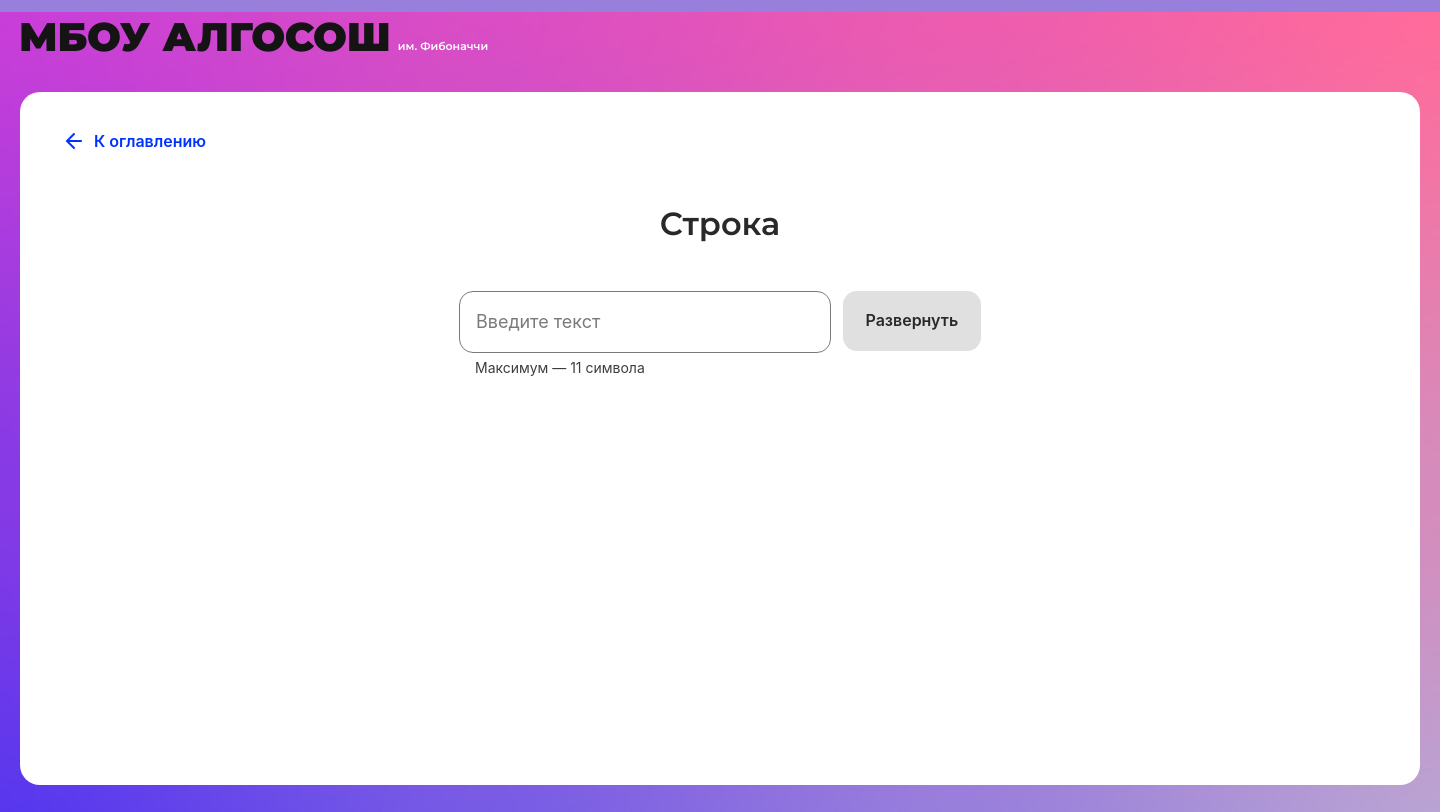
Страница "Строка" › кнопка "Развернуть" недоступна, если в инпуте пусто
Expected: the button "Развернуть" is disabled, [843,291,981,351]
In the field with placeholder "Введите текст": (645, 322) [459,291,831,353], type "word"
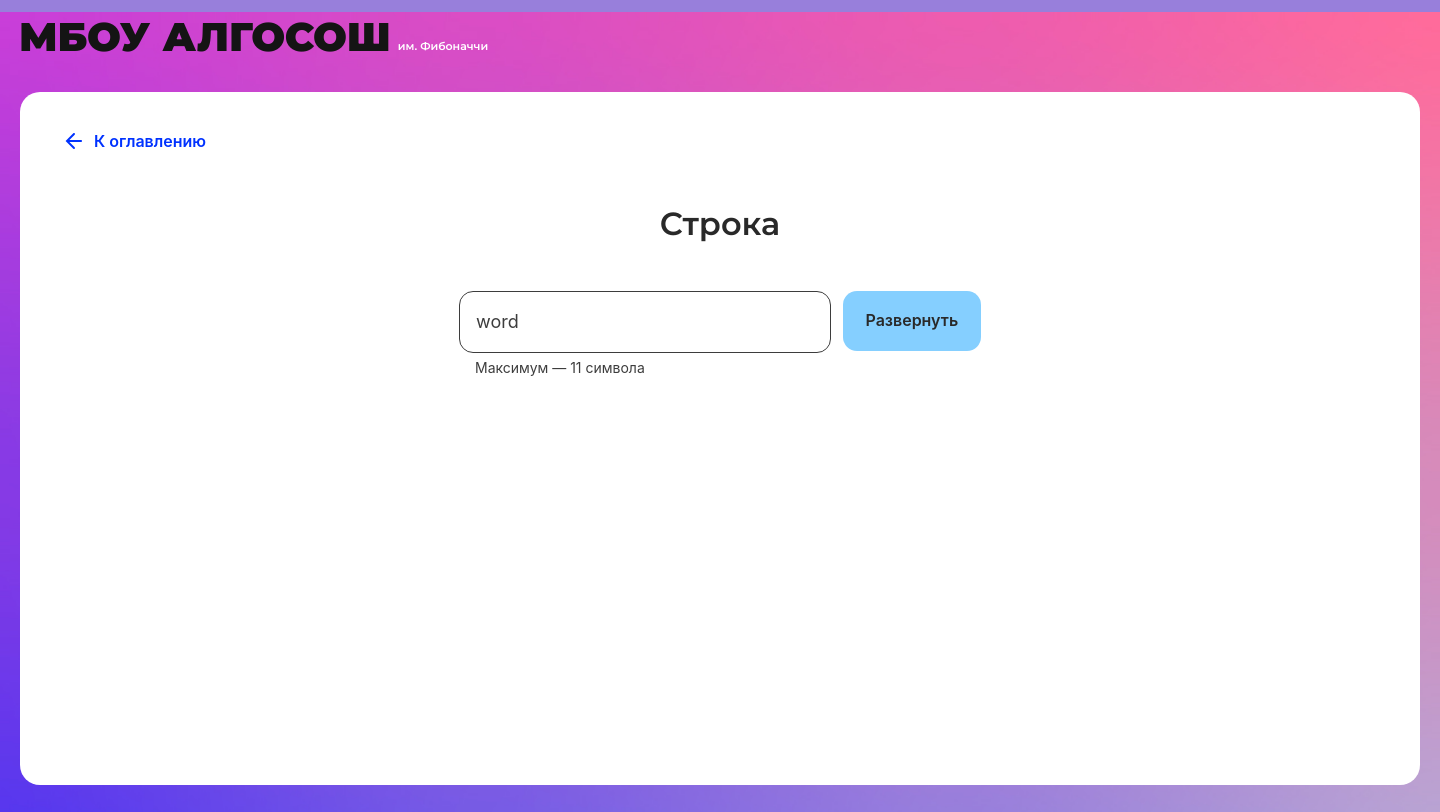
Expected: the button "Развернуть" is enabled, [843,291,981,351]
Press Backspace Backspace Backspace {backsp in the field, box [459,291,831,353]
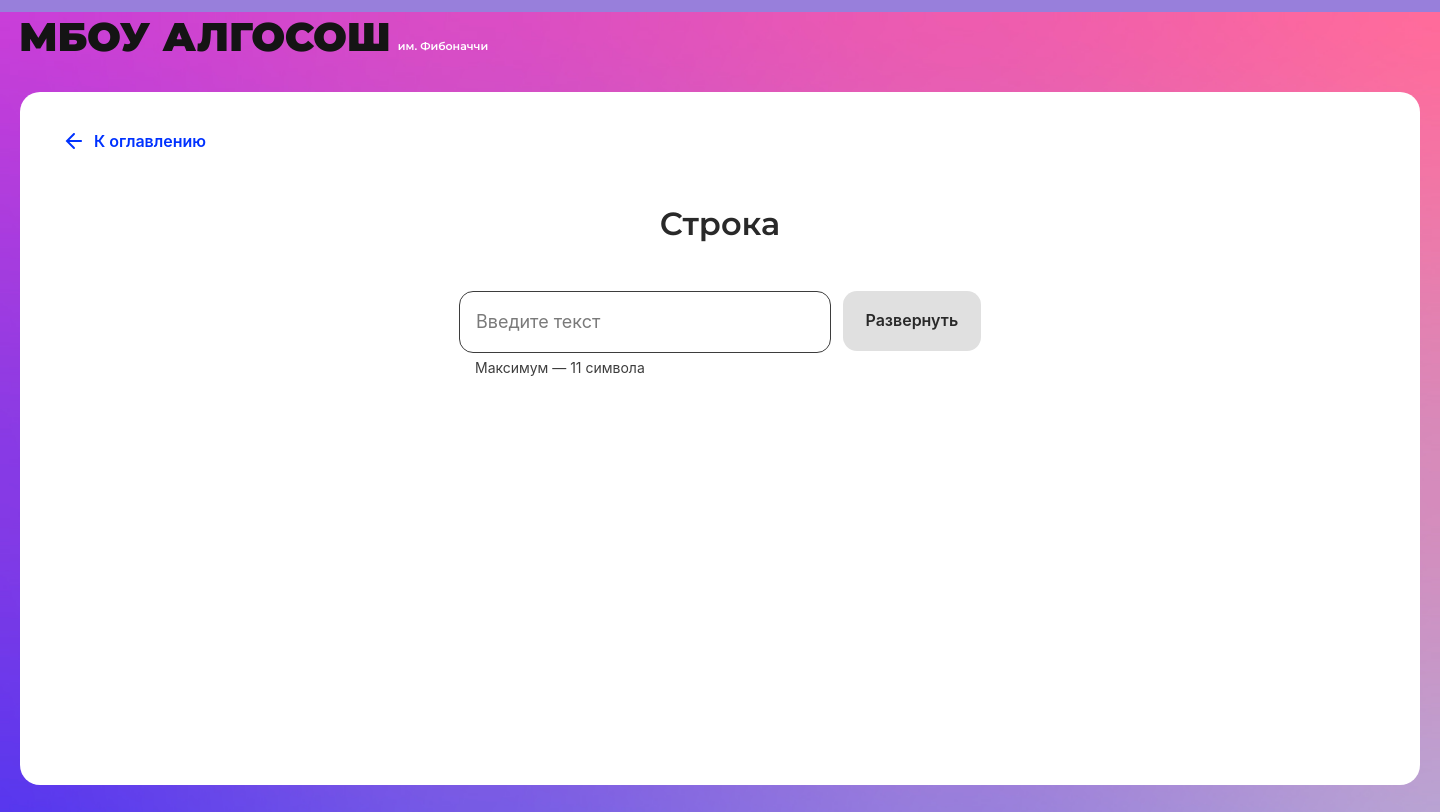
Expected: the button "Развернуть" is disabled, [843,291,981,351]
